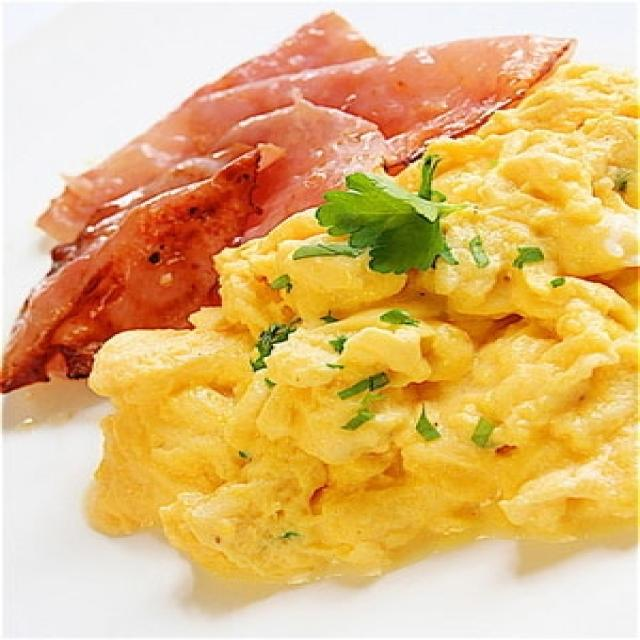鸡蛋料理: (32, 36, 638, 578)
